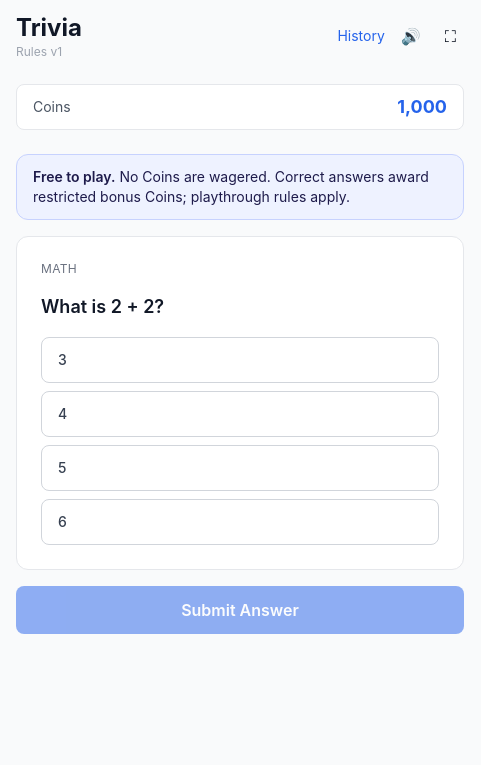
Test case: TriviaGamePage › shows the replay notice from the real API response shape (data.isReplay)
The image size is (481, 765).
Expected: the heading "What is 2 + 2?" is shown, top-left (41, 296), bottom-right (164, 317)
Click the button "4" at (63, 414), box top-left (41, 391), bottom-right (439, 437)
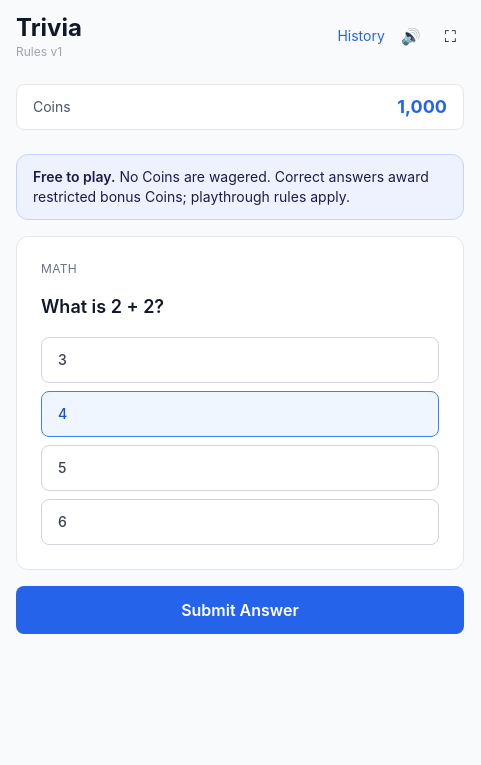
Click the button "Submit Answer" at (240, 610), box top-left (16, 586), bottom-right (464, 634)
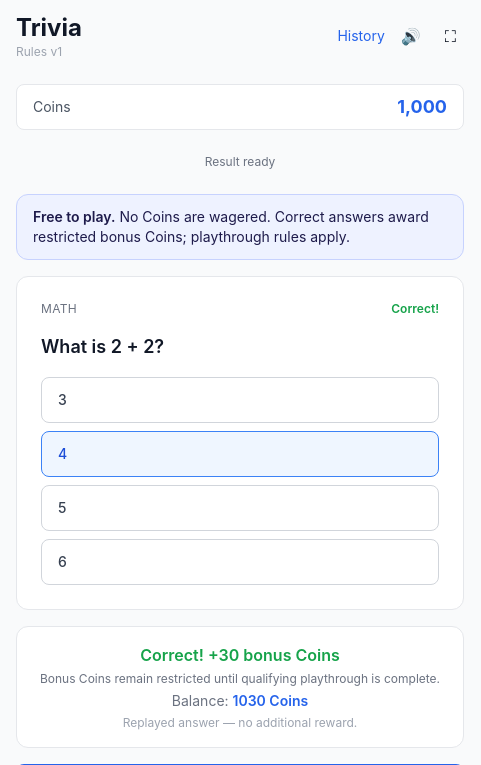
Expected: the text "Replayed answer — no additional reward." is shown, top-left (123, 715), bottom-right (357, 730)
